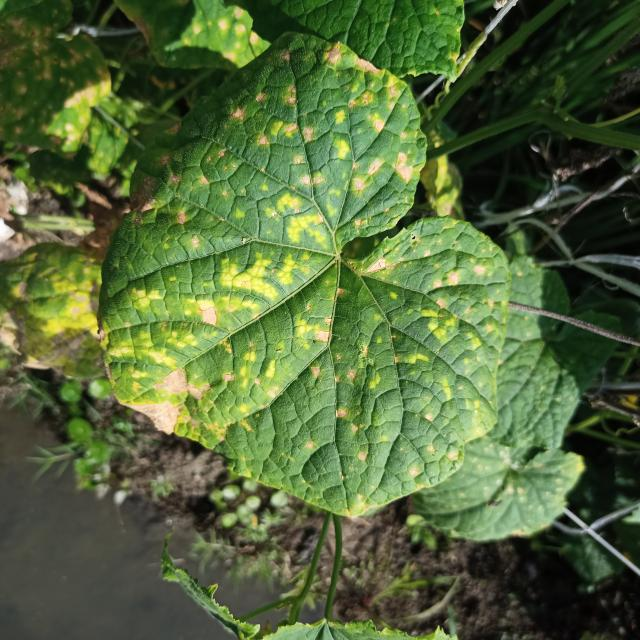disease_cucumber: (105, 38, 528, 506)
